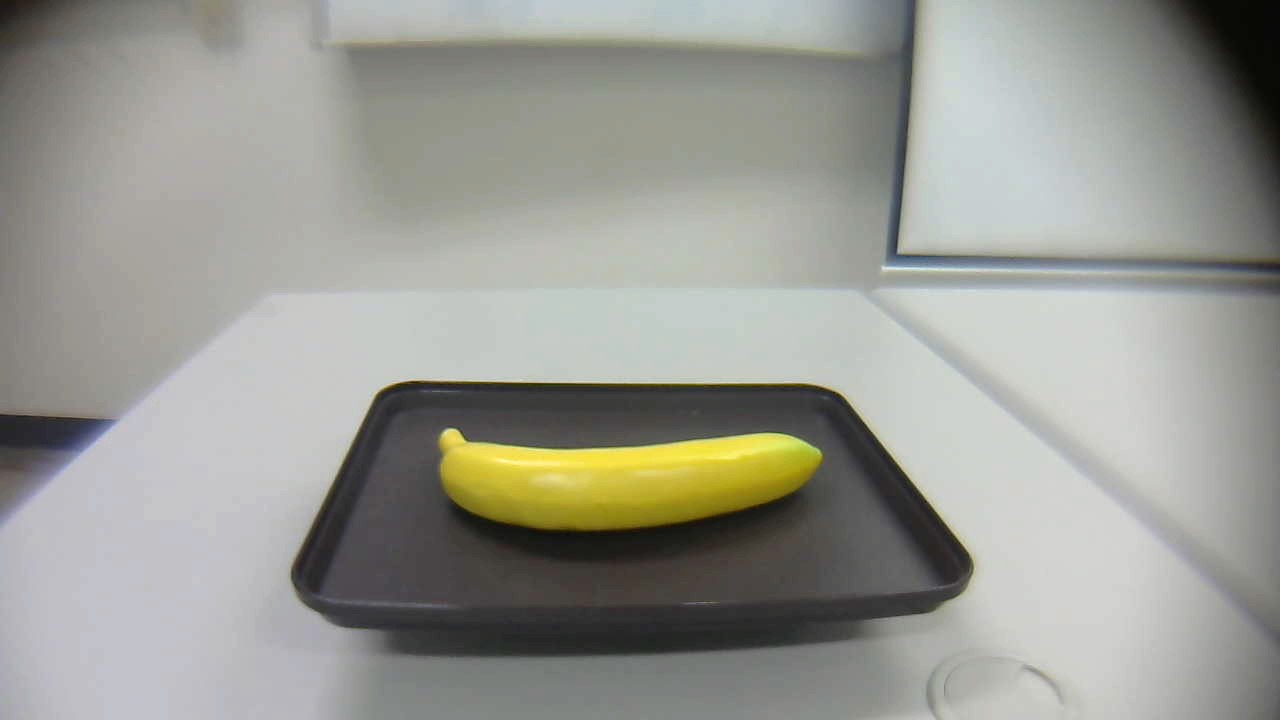banana: (430, 413, 826, 538)
